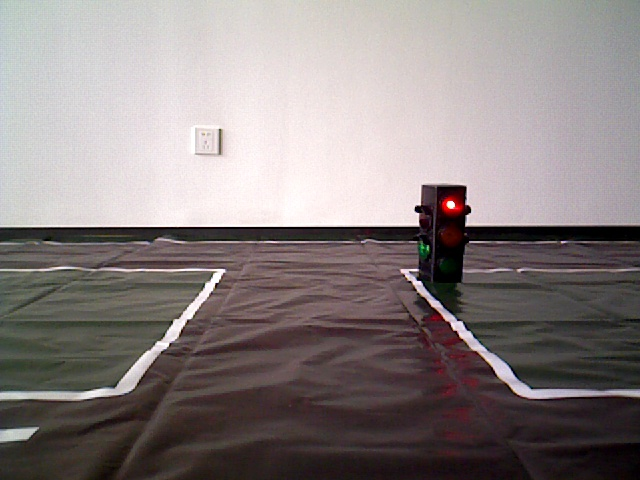red: (417, 187, 461, 283)
